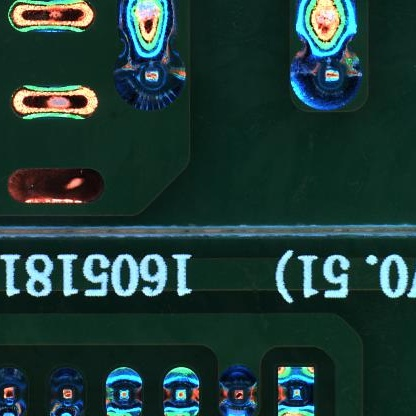spot: (111, 42, 186, 113), (289, 46, 363, 110), (47, 365, 89, 416), (220, 367, 260, 416), (163, 366, 201, 416), (278, 367, 316, 416), (105, 368, 143, 416), (1, 368, 27, 416)
